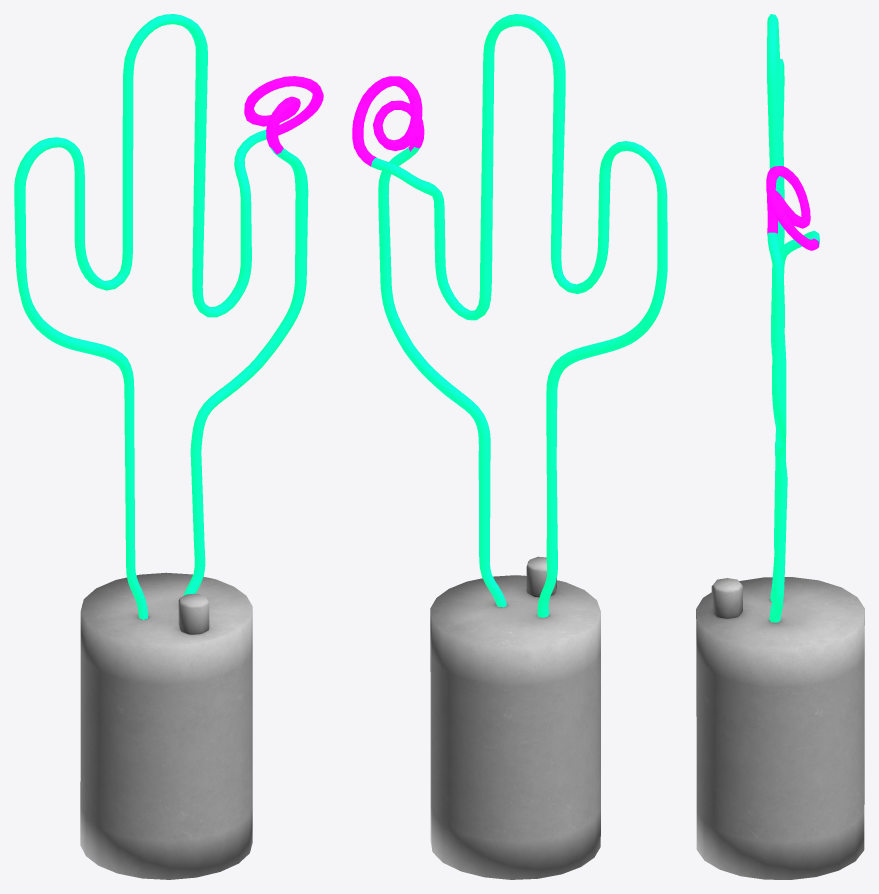
File: neon_cactus.glb
3 renders of one model, left to right at view 1: azimuth 30°, elevation 25°; view 2: azimuth 150°, elevation 25°; view 3: azimuth 270°, elevation 25°, orthographic.
Parts seen in each view (by area): view 1: base_lp (×3); view 2: base_lp (×3); view 3: base_lp (×3).
Part boxes in pixels (x1,y1,x2,y2): base_lp (×3): (14, 14, 323, 879); base_lp (×3): (352, 14, 667, 879); base_lp (×3): (696, 14, 864, 879).
Size of the model in its own units: 0.2466 by 0.6346 by 0.1178.
Materials: 3 (3 with a texture image).
